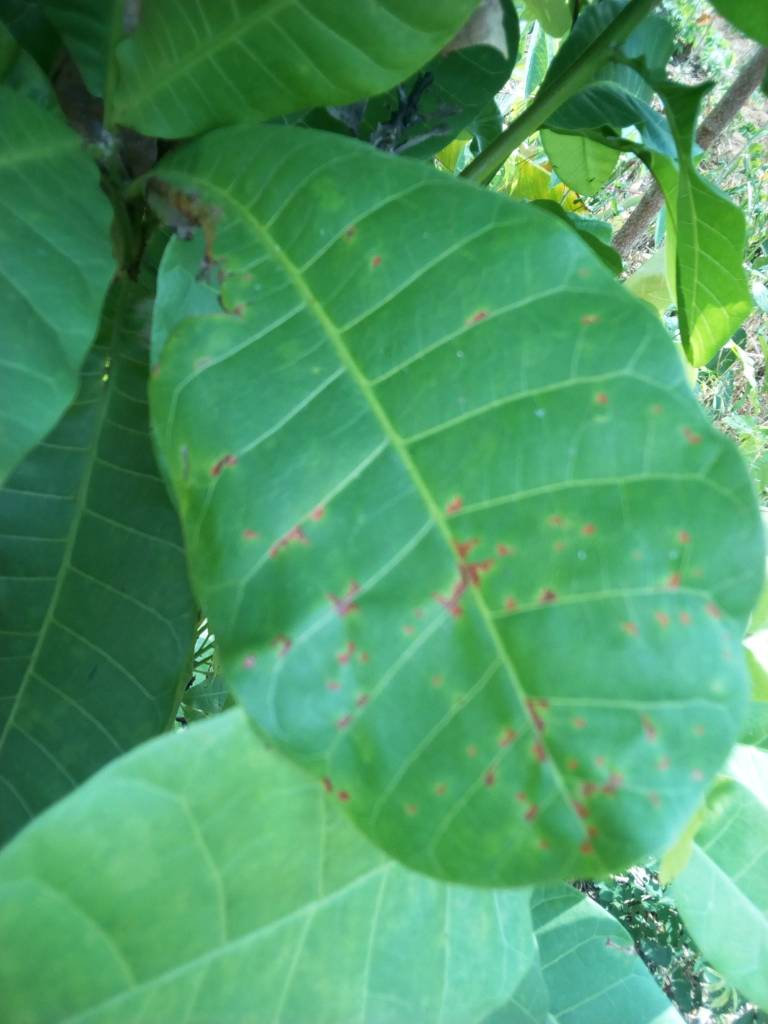Alternariose: (144, 158, 760, 888)
